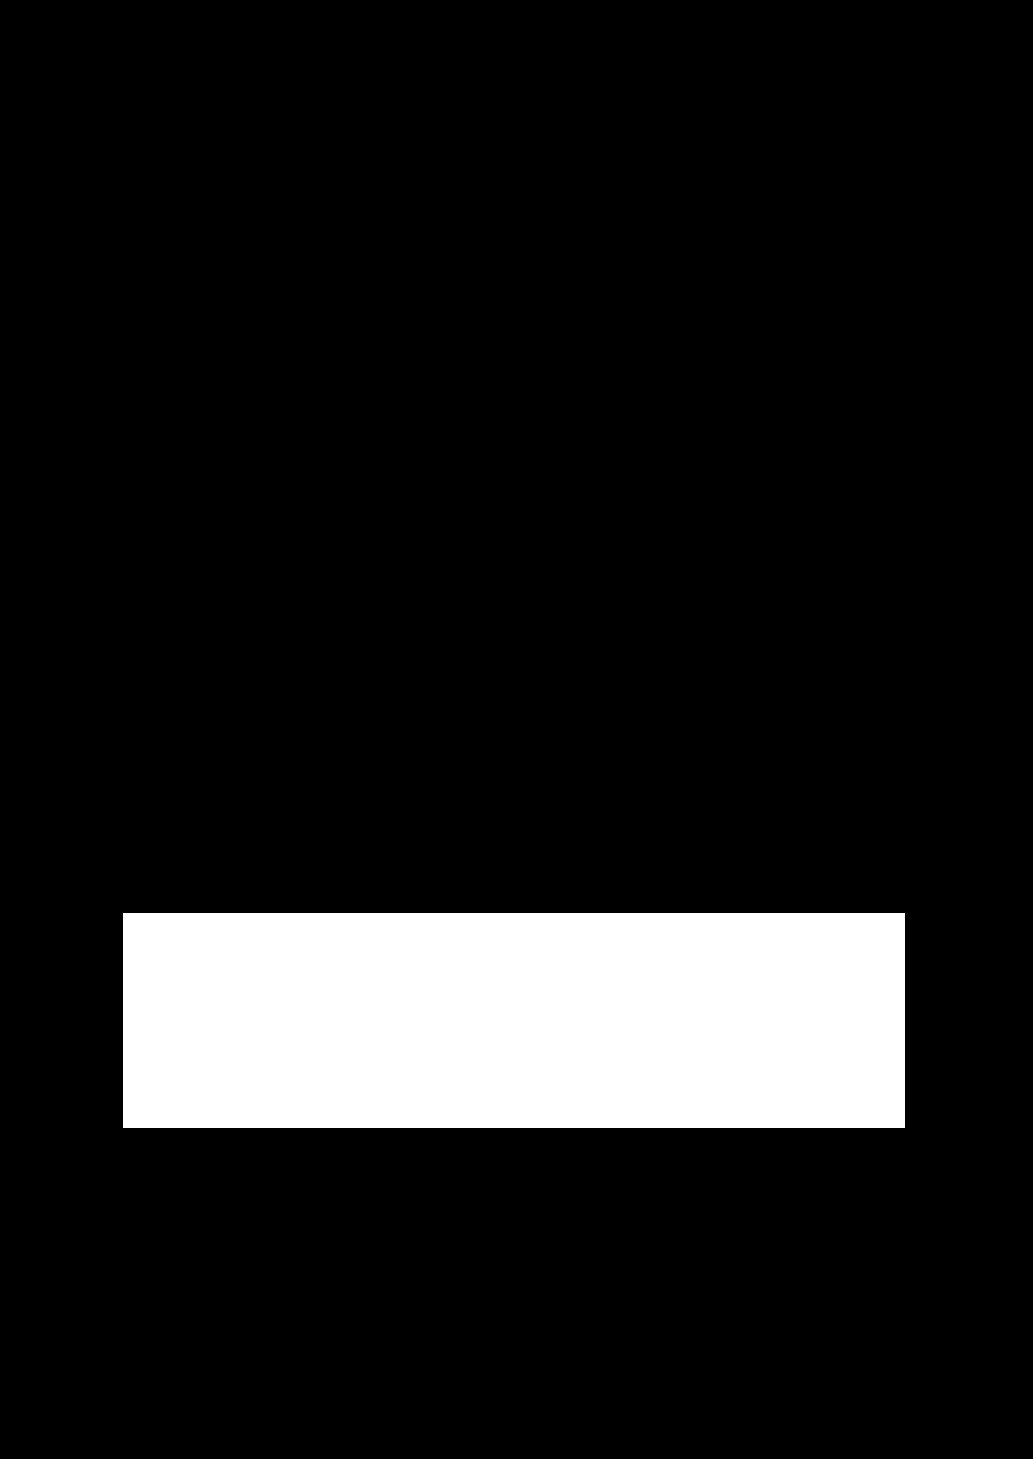table: (123, 913, 904, 1127)
